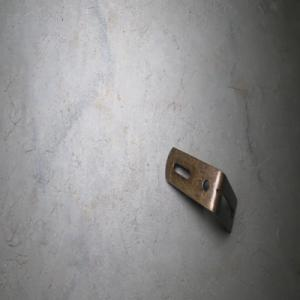MetalPart: (163, 145, 238, 234)
